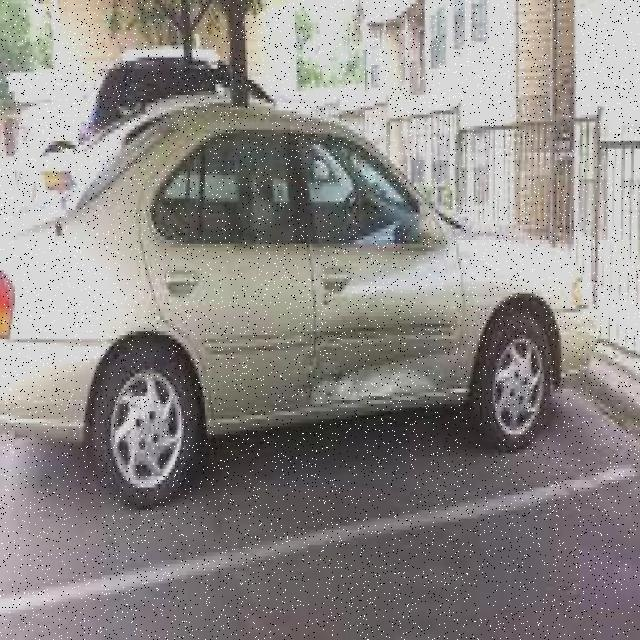car damage: (293, 318, 470, 412)
